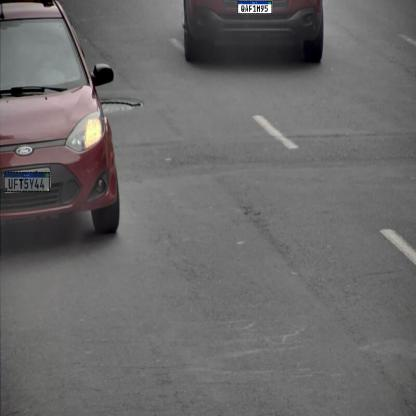PlacaM: (4, 172, 50, 192), (238, 1, 272, 14)
